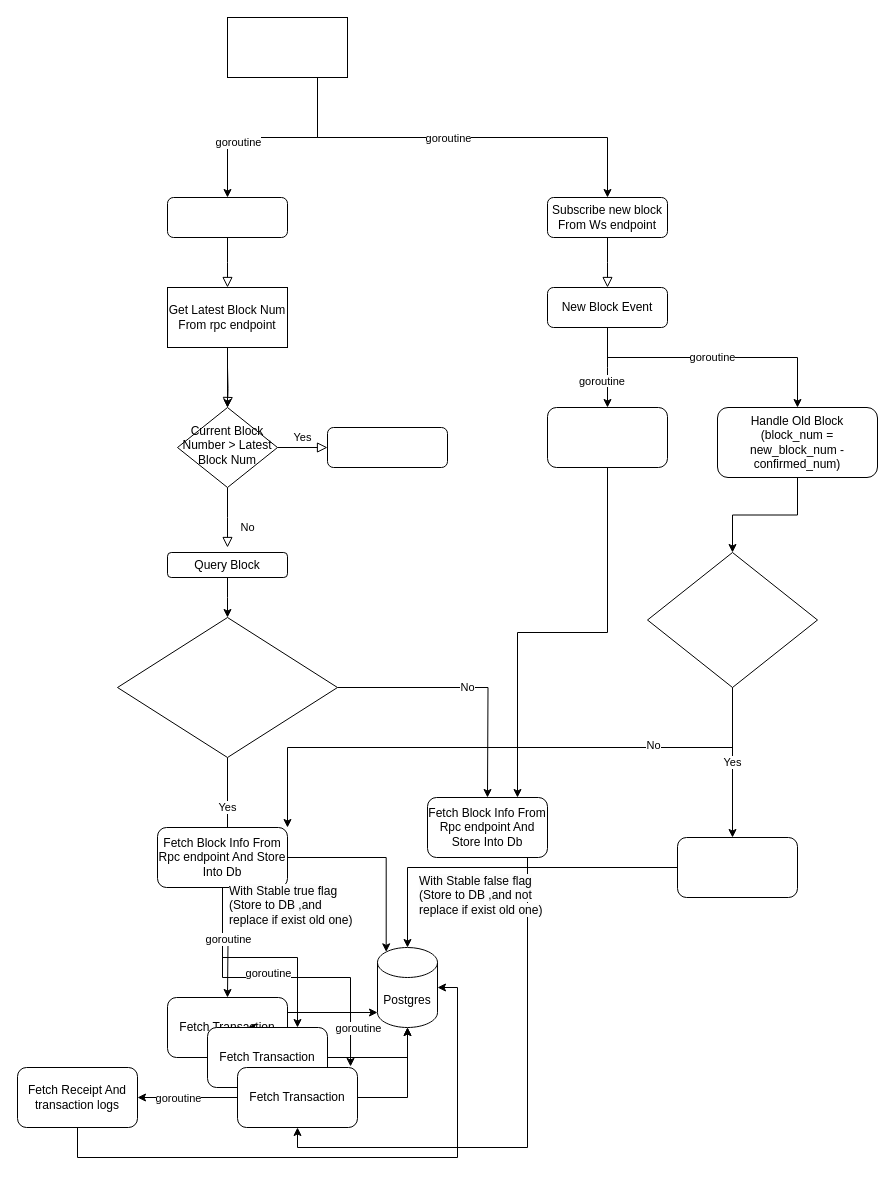
Some shapes in this 895 by 1183 pixel diagram are drawn without their labels. Each missing label, with the box of its shape:
Block usecase initialize: (226, 16, 348, 78)
blockNum < latest block num - confirmed_block_num: (116, 616, 338, 758)
Check If Block Hash equal with db exist one: (646, 552, 818, 688)
Exit: (326, 426, 448, 468)
Handle New Block: (546, 406, 668, 468)
Scan Block From N: (166, 196, 288, 238)
Set Block Stable Flag True: (676, 836, 798, 898)
